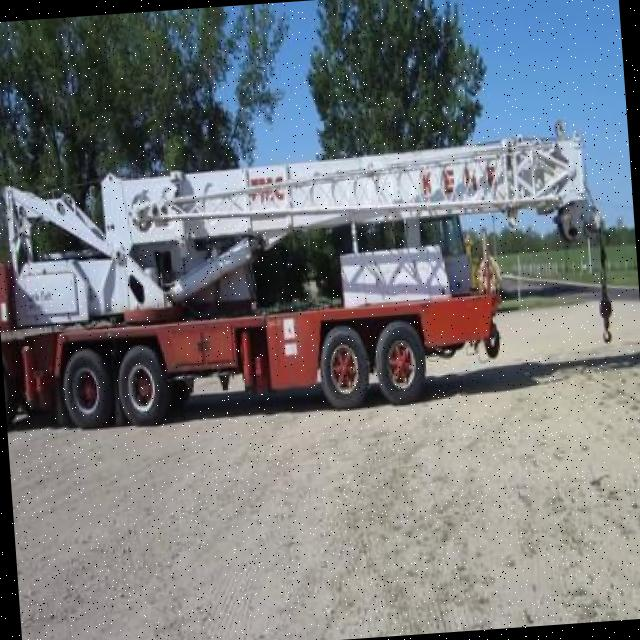Mobile Crane: (0, 126, 616, 433)
